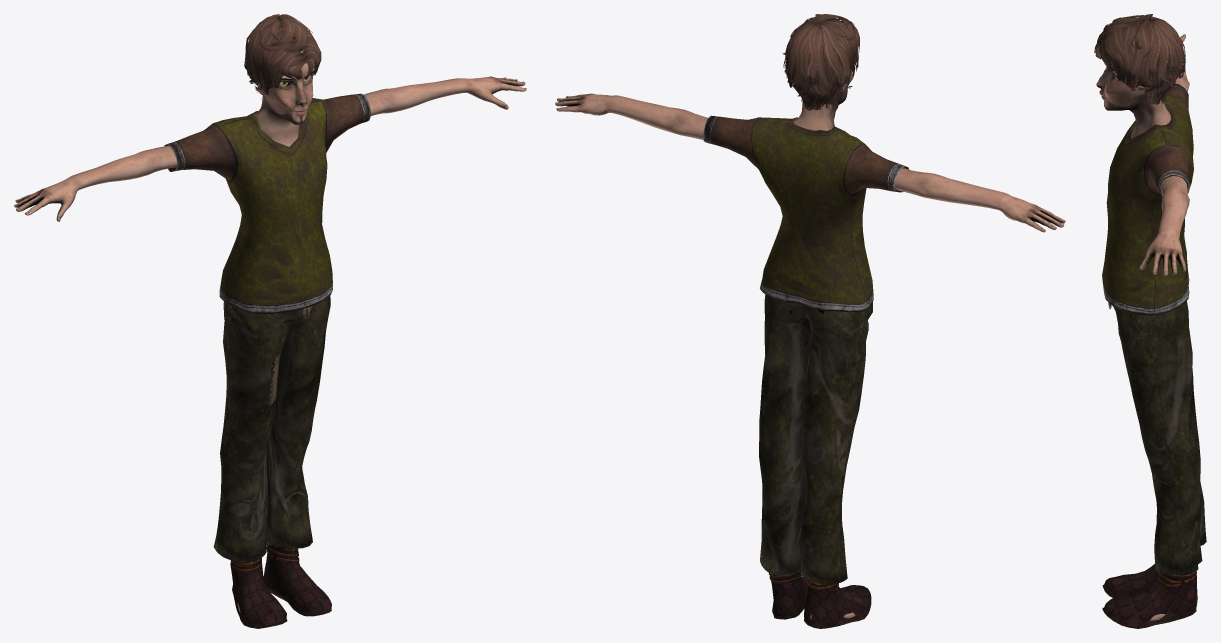
File: NPC #004 homem encostado na parede.fbx
The picture shows the model from 3 angles, left to right: view 1: azimuth 30°, elevation 25°; view 2: azimuth 150°, elevation 25°; view 3: azimuth 270°, elevation 25°; orthographic projection.
Parts seen in each view (by area): view 1: Bottoms, Tops, NPC #004 homem encostado na parede, Shoes, Hair; view 2: Bottoms, Tops, NPC #004 homem encostado na parede, Hair, Shoes; view 3: Bottoms, Tops, Hair, NPC #004 homem encostado na parede, Shoes.
Part boxes in pixels (x1,y1,x2,y2): Bottoms: (213, 296, 330, 562); Tops: (164, 93, 370, 314); NPC #004 homem encostado na parede: (14, 51, 526, 612); Shoes: (230, 544, 331, 628); Hair: (244, 14, 321, 97); Bottoms: (759, 294, 872, 585); Tops: (703, 115, 909, 312); NPC #004 homem encostado na parede: (555, 70, 1065, 619); Hair: (782, 14, 859, 110); Shoes: (768, 569, 871, 628); Bottoms: (1108, 301, 1206, 575); Tops: (1102, 83, 1193, 315); Hair: (1094, 14, 1185, 104); NPC #004 homem encostado na parede: (1096, 22, 1189, 620); Shoes: (1102, 564, 1197, 628).
Size of the model in its own units: 169 by 189 by 32.42.
